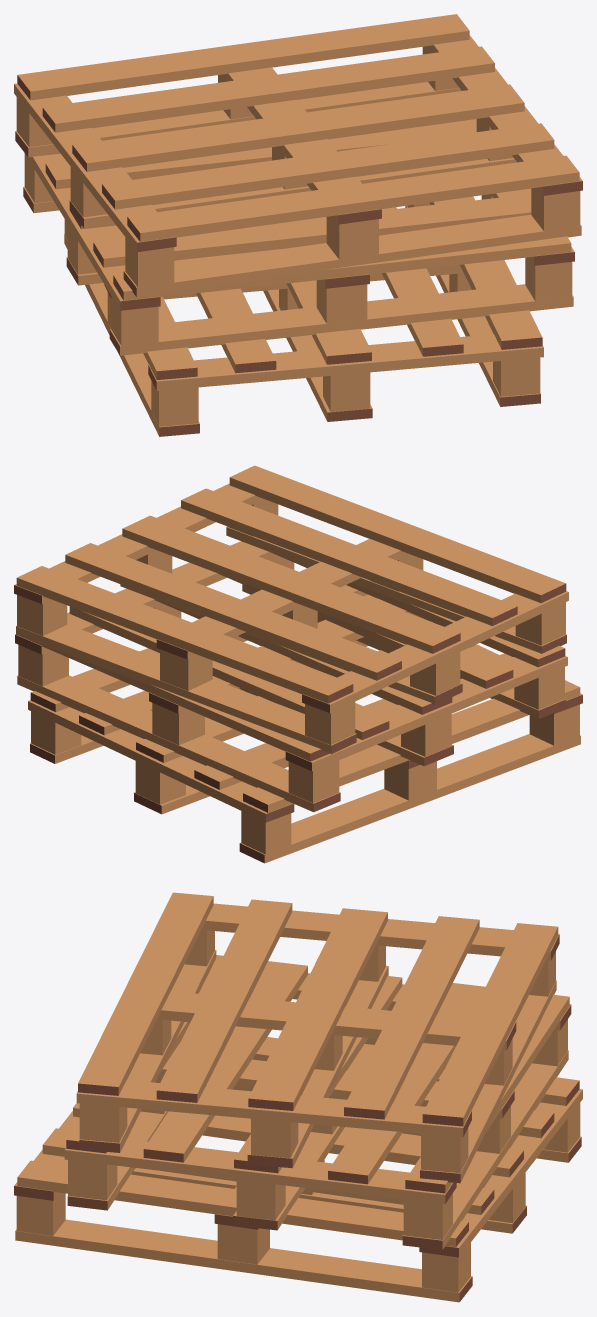
Rendered from pallet1.fbx.
3 views of the same model, one above another, from view 1: azimuth 30°, elevation 25°; view 2: azimuth 150°, elevation 25°; view 3: azimuth 270°, elevation 25° (orthographic). The views are drawn at different scales.
Visible parts, largest first — view 1: pallet1.013, pallet1.009, pallet1.010, pallet1.012, pallet1.011, pallet1.027, pallet1.007, pallet1.031, pallet1.040, pallet1.032, pallet1.029, pallet1.006 (+29 smaller); view 2: pallet1.013, pallet1.010, pallet1.012, pallet1.009, pallet1.011, pallet1.047, pallet1.006, pallet1.026, pallet1.001, pallet1.052, pallet1.021, pallet1.041 (+34 smaller); view 3: pallet1.046, pallet1.013, pallet1.010, pallet1.011, pallet1.012, pallet1.009, pallet1.050, pallet1.060, pallet1.020, pallet1.031, pallet1.029, pallet1.005 (+37 smaller).
Boxes of the visible parts, <box> form: pallet1.013: <box>72,84,524,171</box>; pallet1.009: <box>42,46,494,132</box>; pallet1.010: <box>17,14,469,100</box>; pallet1.012: <box>127,155,579,241</box>; pallet1.011: <box>102,123,554,209</box>; pallet1.027: <box>109,284,573,355</box>; pallet1.007: <box>123,214,581,296</box>; pallet1.031: <box>93,194,531,267</box>; pallet1.040: <box>148,334,543,390</box>; pallet1.032: <box>113,236,571,300</box>; pallet1.029: <box>45,119,476,189</box>; pallet1.006: <box>15,82,461,157</box>; pallet1.013: <box>122,515,460,653</box>; pallet1.010: <box>16,566,353,703</box>; pallet1.012: <box>229,465,566,602</box>; pallet1.009: <box>65,543,401,680</box>; pallet1.011: <box>181,488,517,625</box>; pallet1.047: <box>239,734,580,863</box>; pallet1.006: <box>16,624,356,754</box>; pallet1.026: <box>17,675,340,812</box>; pallet1.001: <box>302,591,568,713</box>; pallet1.052: <box>243,680,580,812</box>; pallet1.021: <box>285,656,567,771</box>; pallet1.041: <box>28,700,294,822</box>; pallet1.046: <box>15,1219,472,1302</box>; pallet1.013: <box>248,908,387,1110</box>; pallet1.010: <box>422,923,558,1126</box>; pallet1.011: <box>156,899,292,1102</box>; pallet1.012: <box>78,892,213,1095</box>; pallet1.009: <box>344,916,479,1119</box>; pallet1.050: <box>17,1160,468,1247</box>; pallet1.060: <box>76,1080,471,1137</box>; pallet1.020: <box>64,1139,456,1204</box>; pallet1.031: <box>143,961,307,1162</box>; pallet1.029: <box>328,983,485,1184</box>; pallet1.005: <box>157,991,516,1050</box>.
Bounding box in the file's own units: 2.43 × 2.38 × 0.9021.
